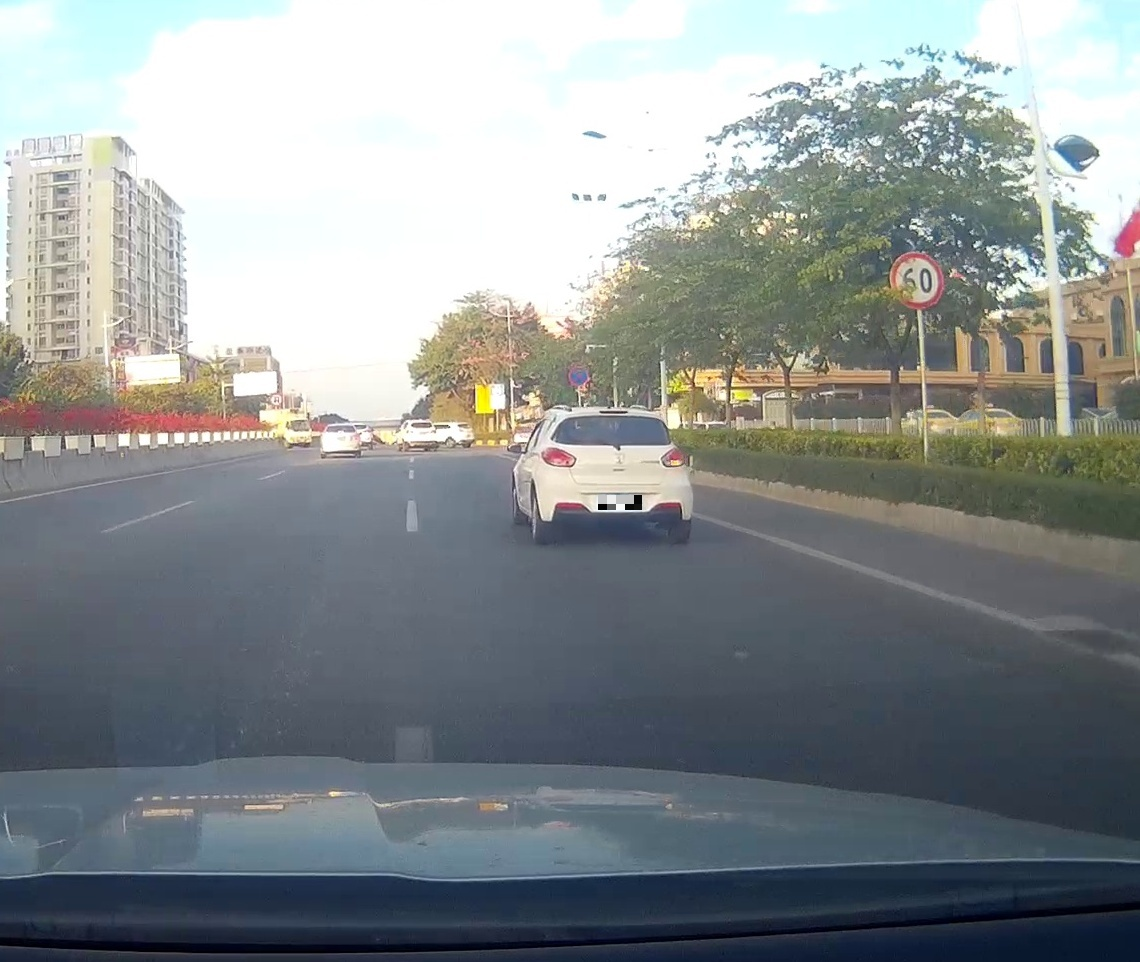L_light: (541, 447, 577, 468)
R_light: (661, 447, 686, 468)
T_light: (599, 410, 628, 414)
day-right: (541, 406, 692, 544)
plate_1: (598, 495, 642, 510)
